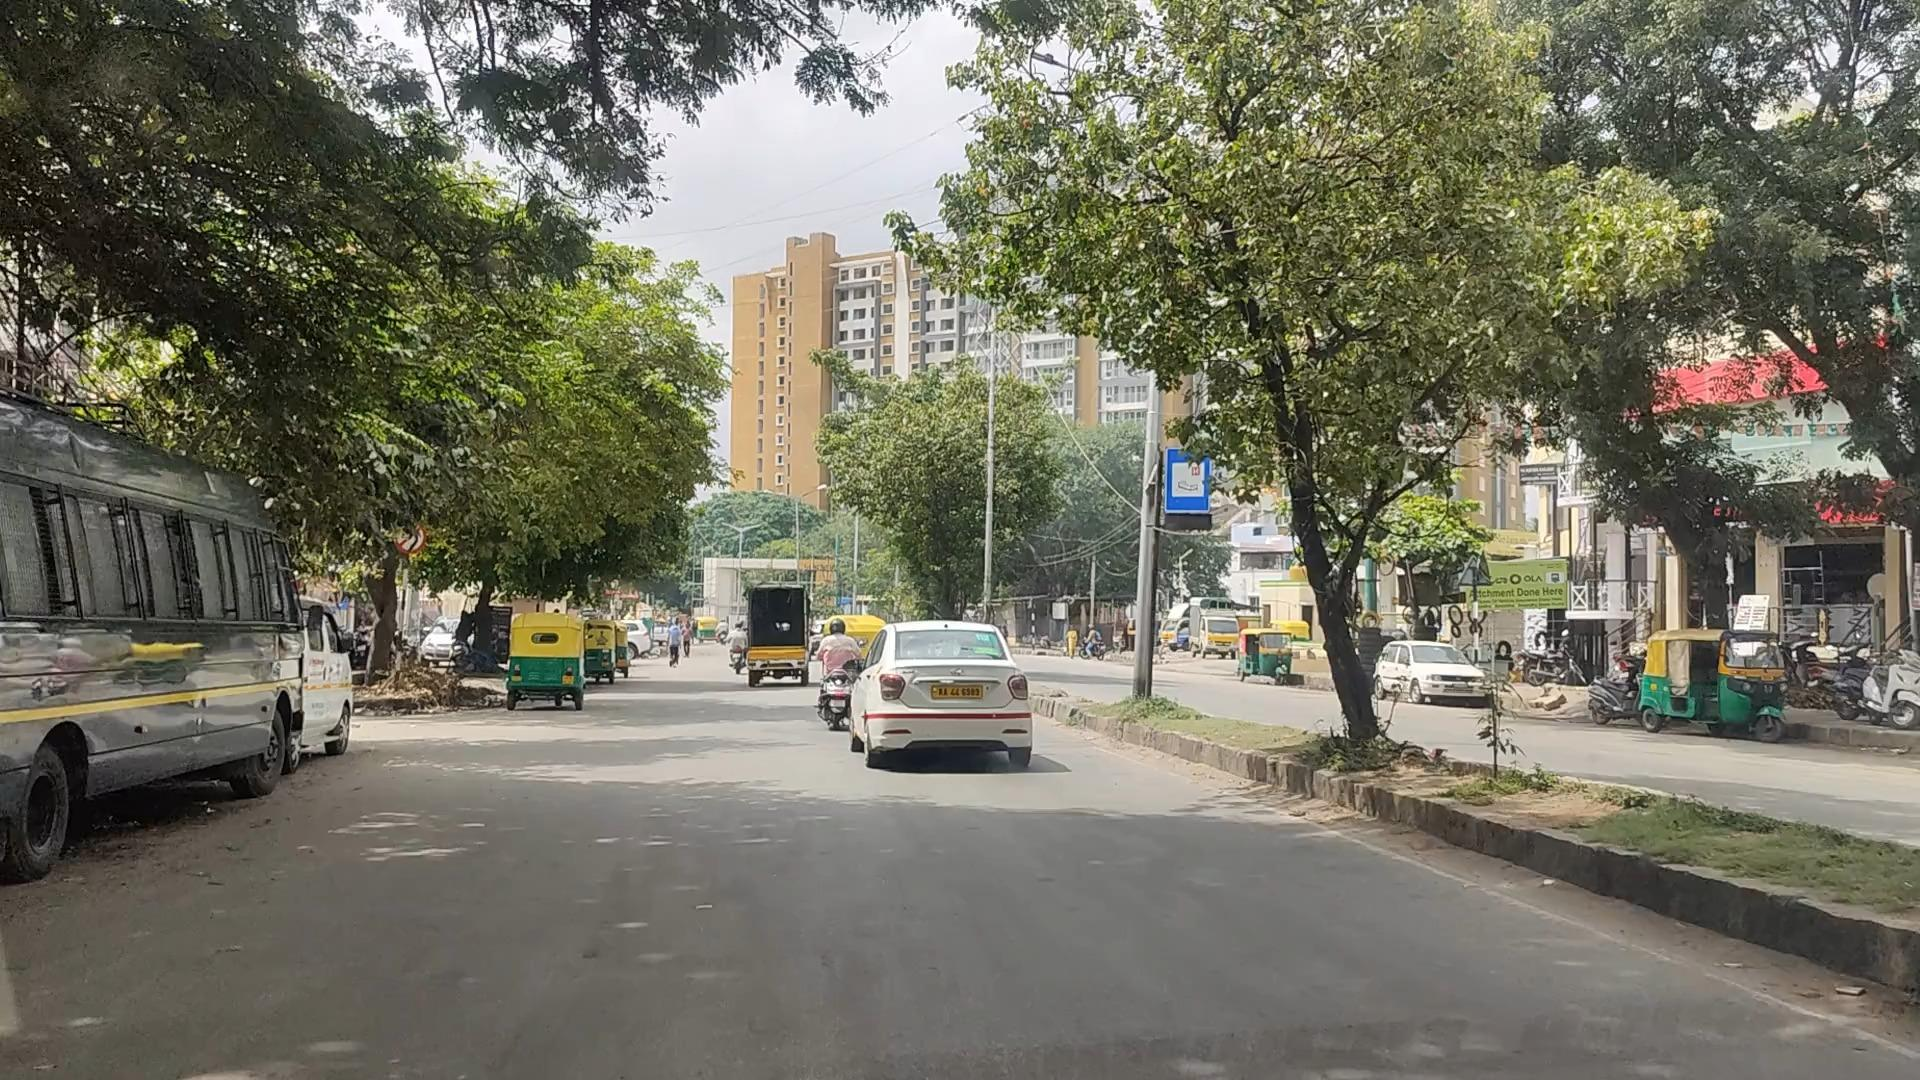LMV: (847, 600, 1021, 773), (514, 603, 583, 716), (807, 630, 849, 725)
